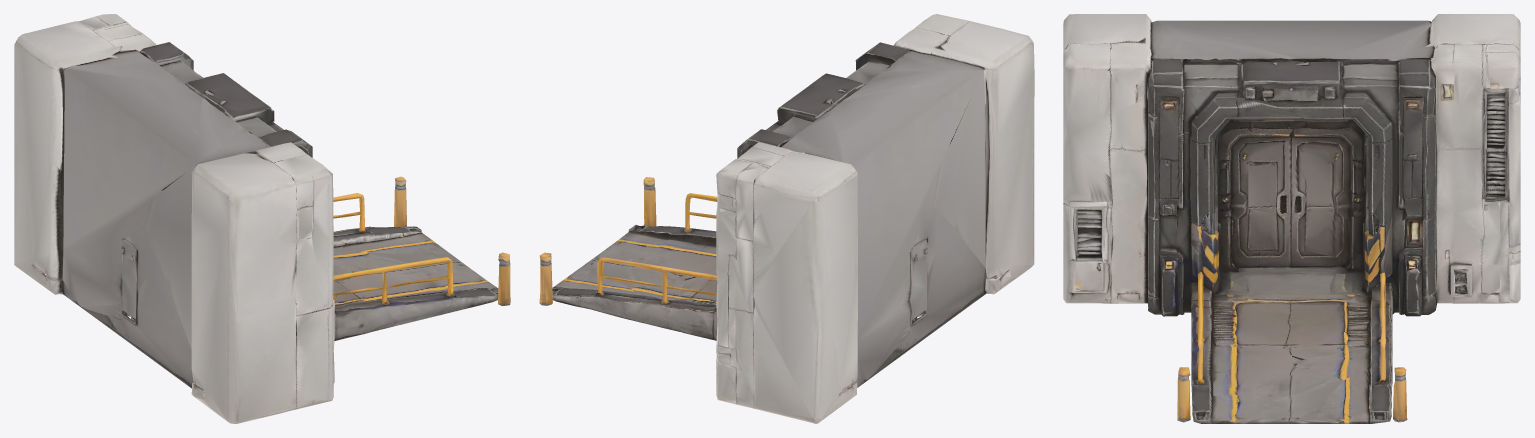
The model's file is entrancePorch.glb.
3 renders of one model, left to right at view 1: azimuth 30°, elevation 25°; view 2: azimuth 150°, elevation 25°; view 3: azimuth 270°, elevation 25°, orthographic. The views are drawn at different scales.
Parts seen in each view (by area): view 1: entrancePorch; view 2: entrancePorch; view 3: entrancePorch.
Part boxes in pixels (<box>): entrancePorch: <box>14,14,510,423</box>; entrancePorch: <box>539,14,1034,423</box>; entrancePorch: <box>1063,14,1520,423</box>.
Bounding box in the file's own units: 8 × 5.19 × 8.93.
1 material, 1 textured.
